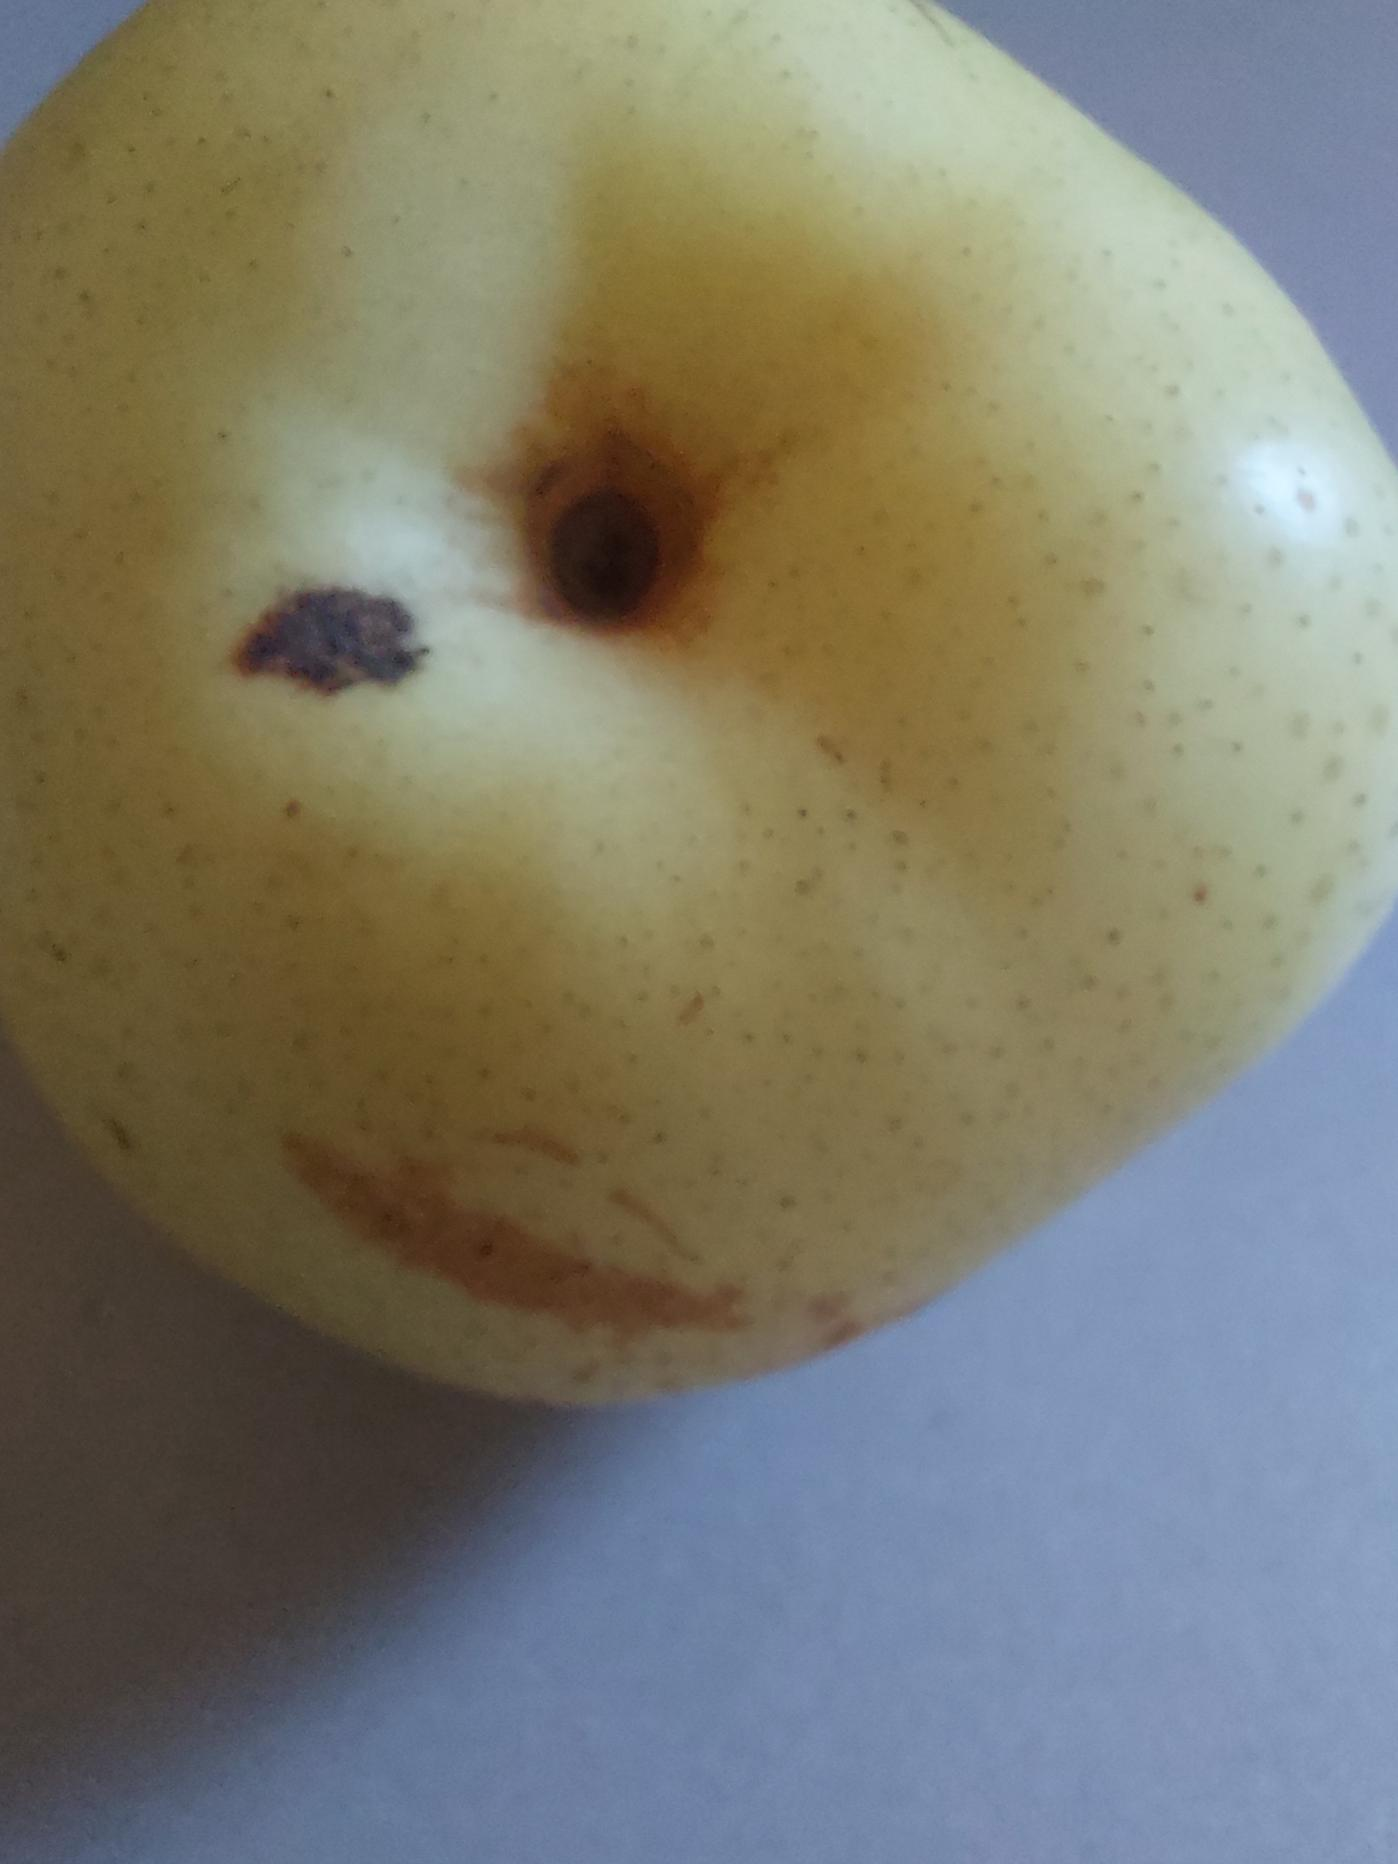Good Pear: (0, 0, 1398, 1479)
